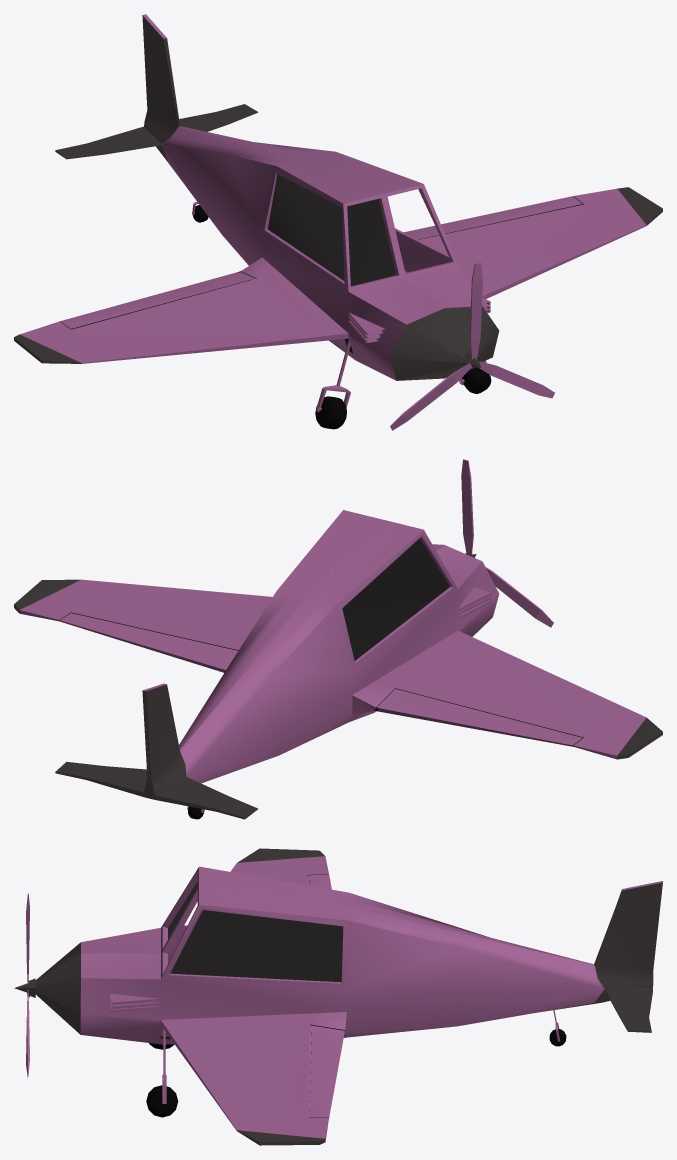
File: cartoon_Plane_pink_ytsis.glb
3 renders of one model, top to bottom at view 1: azimuth 30°, elevation 25°; view 2: azimuth 150°, elevation 25°; view 3: azimuth 270°, elevation 25°, orthographic. The views are drawn at different scales.
Visible parts, largest first — view 1: Cube_1_3, Propeller_1, Wheel_4; view 2: Cube_1_3, Propeller_1; view 3: Cube_1_3, Propeller_1, Wheel_2.
Boxes of the visible parts, left/top/right/bottom form: Cube_1_3: left=14, top=14, right=662, bottom=380; Propeller_1: left=390, top=263, right=554, bottom=430; Wheel_4: left=315, top=396, right=346, bottom=429; Cube_1_3: left=14, top=510, right=662, bottom=819; Propeller_1: left=461, top=459, right=553, bottom=627; Cube_1_3: left=35, top=848, right=662, bottom=1145; Propeller_1: left=14, top=893, right=35, bottom=1077; Wheel_2: left=146, top=1085, right=178, bottom=1117.
Size of the model in its own units: 2.09 by 0.6675 by 1.96.
